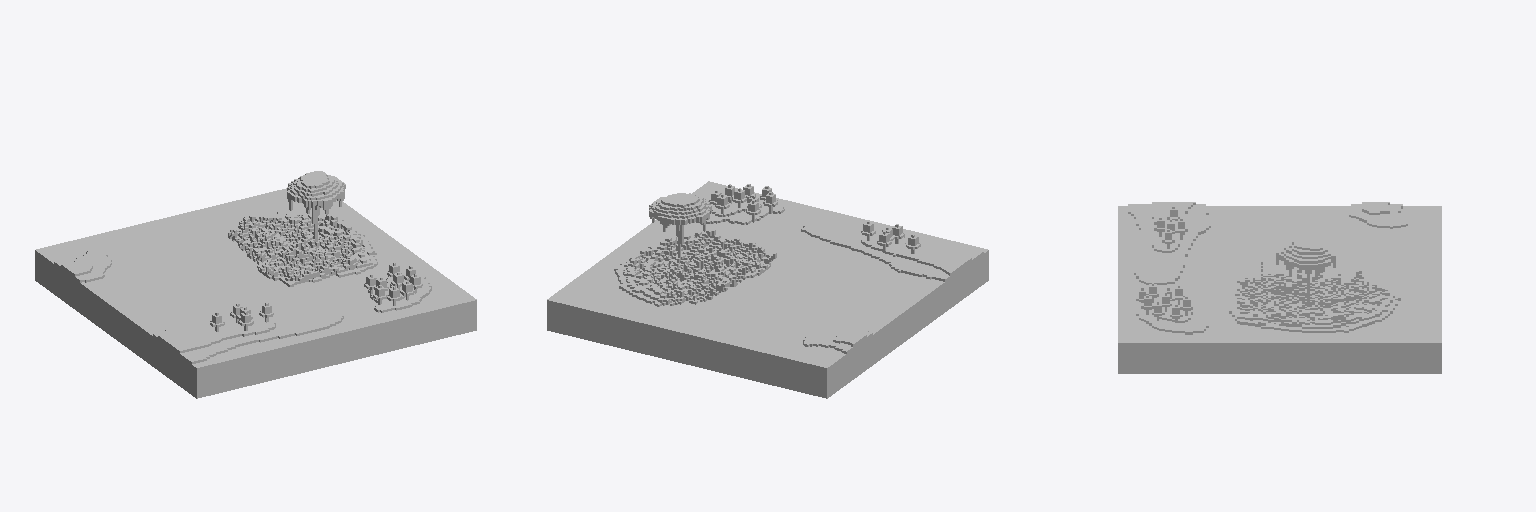
The model's file is Map (2).obj.
The picture shows the model from 3 angles: view 1: azimuth 30°, elevation 25°; view 2: azimuth 150°, elevation 25°; view 3: azimuth 270°, elevation 25°; orthographic projection.
Visible parts, largest first — view 1: ALL MAP!!!!!!!!!!!-36; view 2: ALL MAP!!!!!!!!!!!-36; view 3: ALL MAP!!!!!!!!!!!-36.
Part boxes in pixels (x1,y1,x2,y2): ALL MAP!!!!!!!!!!!-36: (35, 171, 476, 398); ALL MAP!!!!!!!!!!!-36: (547, 181, 988, 398); ALL MAP!!!!!!!!!!!-36: (1118, 202, 1441, 373).
Bounding box in the file's own units: 125 × 42 × 125.